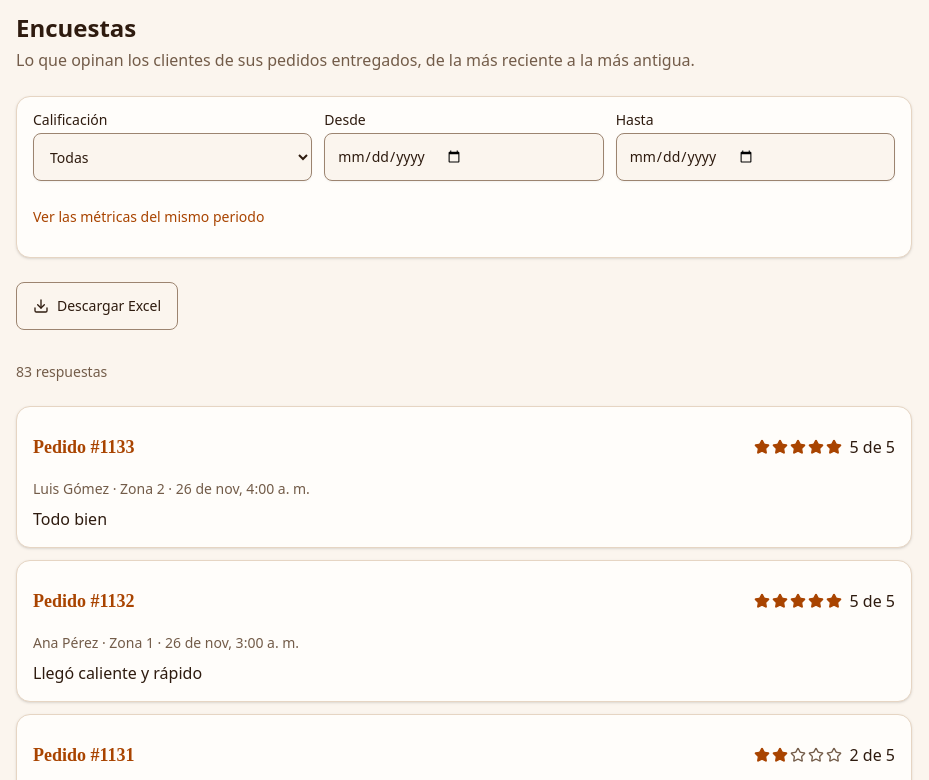
Test: SurveysView › cancelar a mitad no descarga nada y se dice
This screenshot has width=929, height=780.
Click the button "Descargar Excel".
click(97, 306)  # box 16,282 -> 178,330
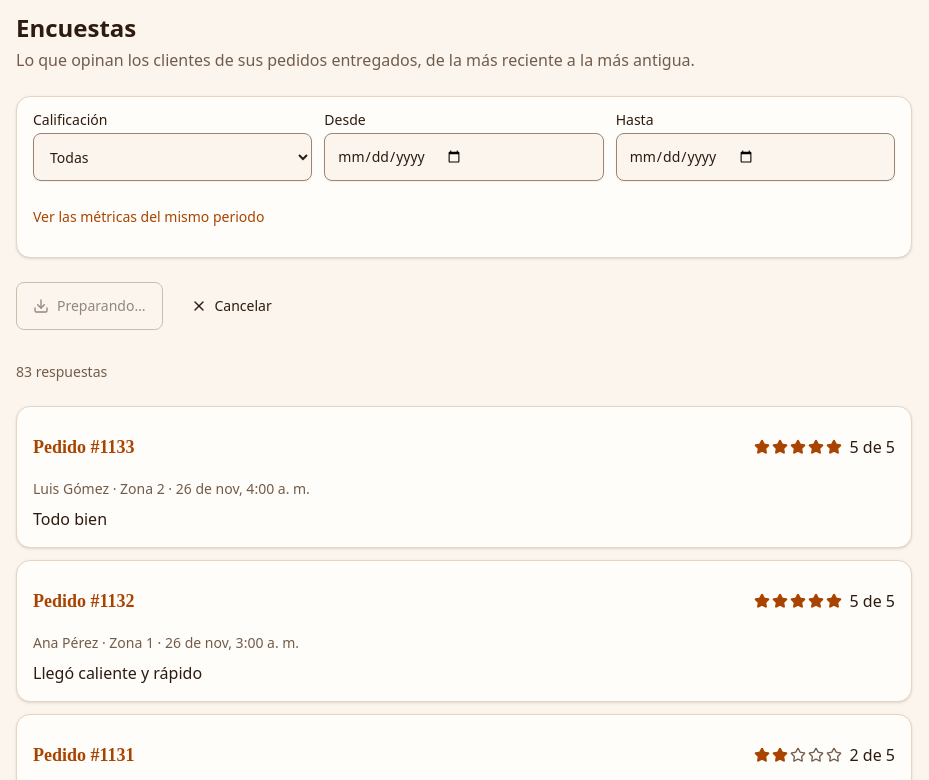
Result: the button "Preparando…" is disabled at 16,282 -> 162,330
Click the button "Cancelar".
click(231, 306)  # box 174,282 -> 288,330
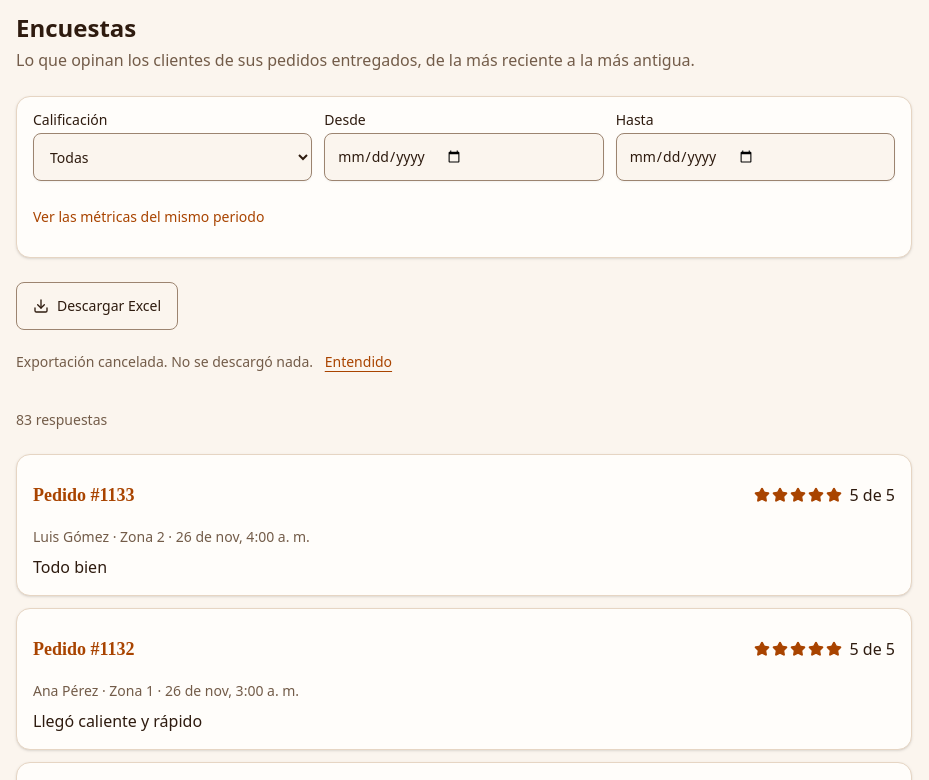
Result: the text "Exportación cancelada. No se descargó nada. Entendido" is shown at 16,352 -> 400,371
Result: the button "Descargar Excel" is enabled at 16,282 -> 178,330
